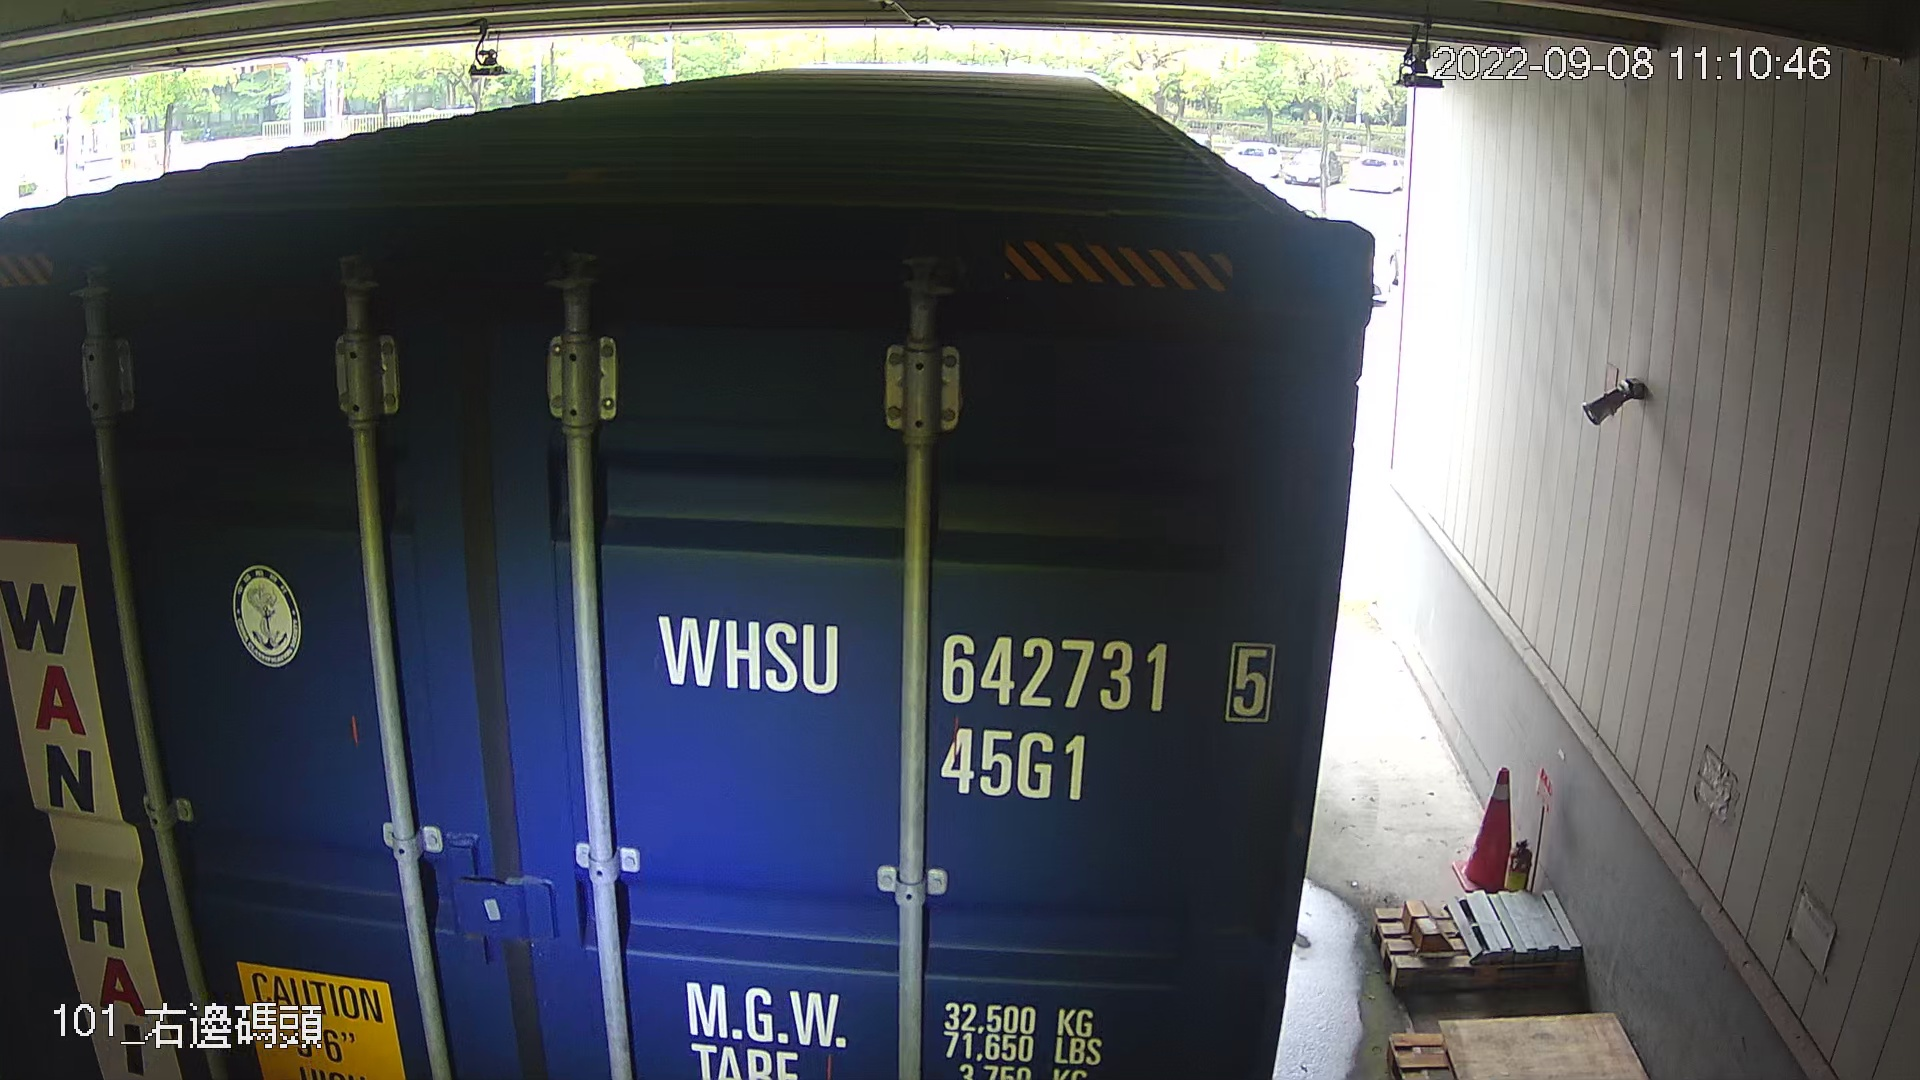container: (642, 589, 1284, 824)
